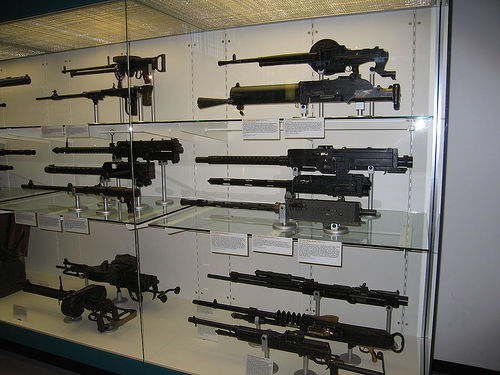rifle: (197, 298, 412, 341), (197, 134, 411, 171), (193, 75, 407, 112), (206, 268, 411, 306), (217, 45, 389, 74), (181, 198, 374, 223), (195, 175, 376, 195)
